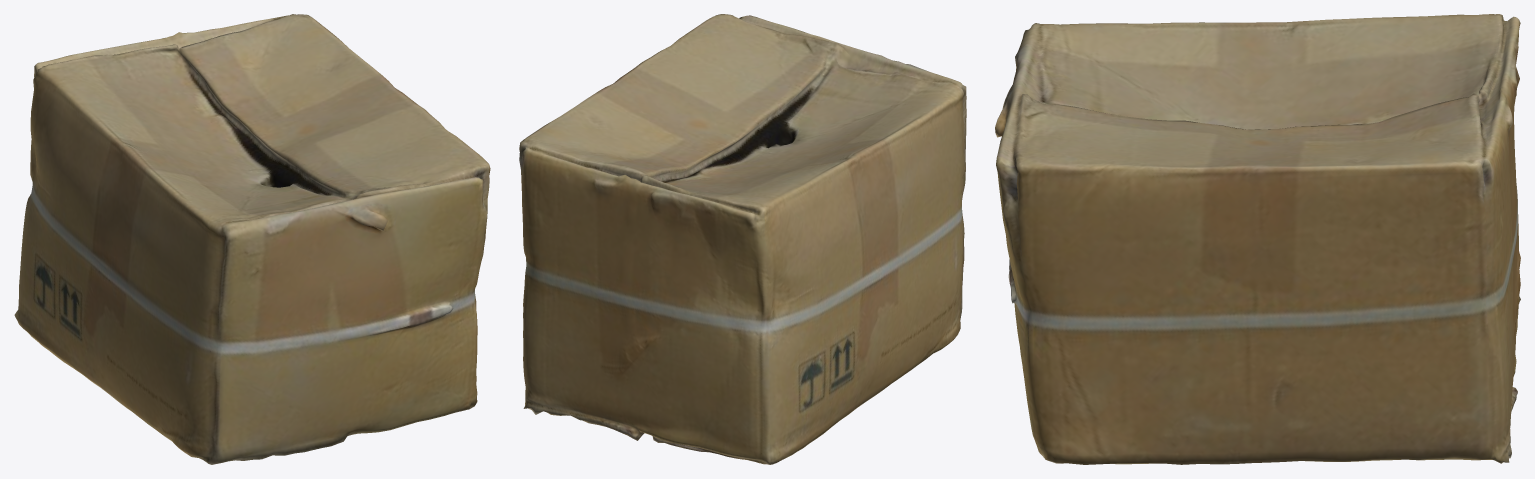
File: cardboard-box.glb
The picture shows the model from 3 angles, left to right: view 1: azimuth 30°, elevation 25°; view 2: azimuth 150°, elevation 25°; view 3: azimuth 270°, elevation 25°; orthographic projection. The views are drawn at different scales.
Parts seen in each view (by area): view 1: cardboard_box_01; view 2: cardboard_box_01; view 3: cardboard_box_01.
Boxes of the visible parts, bbox=[...] form: cardboard_box_01: bbox=[14, 14, 490, 464]; cardboard_box_01: bbox=[519, 14, 966, 464]; cardboard_box_01: bbox=[995, 14, 1520, 464].
Bounding box in the file's own units: 0.387 × 0.3418 × 0.5159.
1 material, 1 textured.
